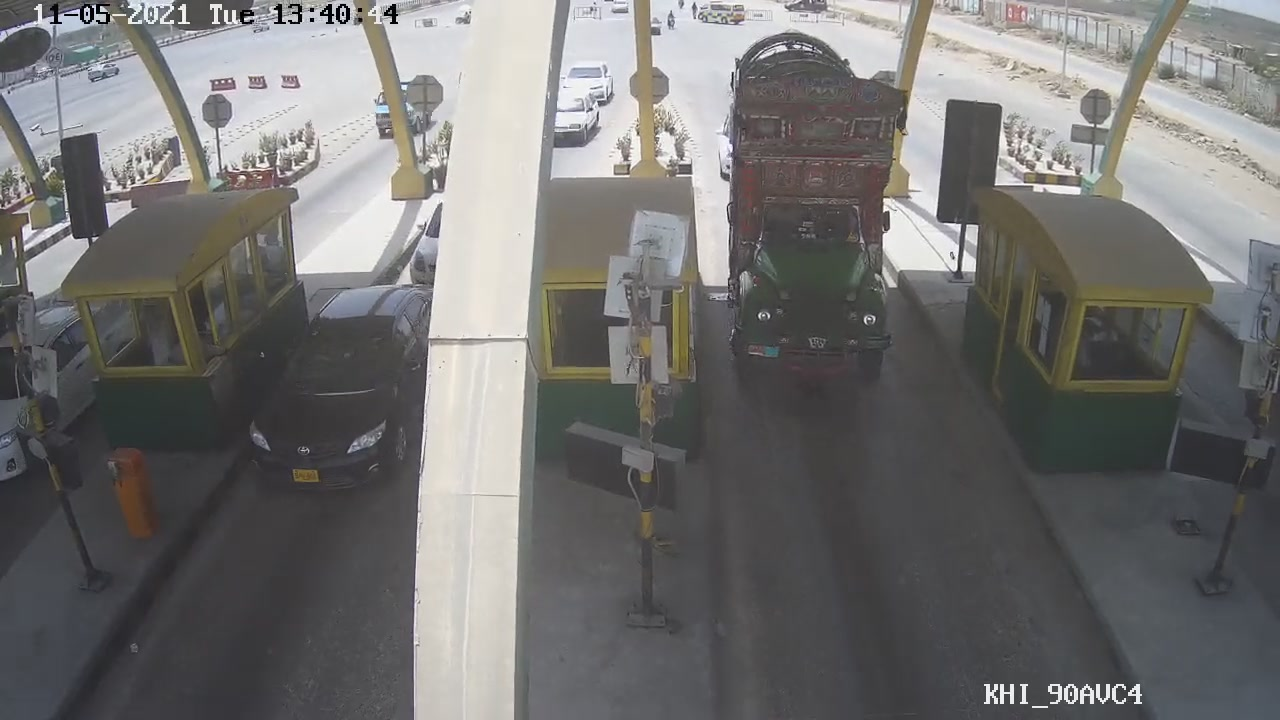F5: (720, 26, 921, 388)
